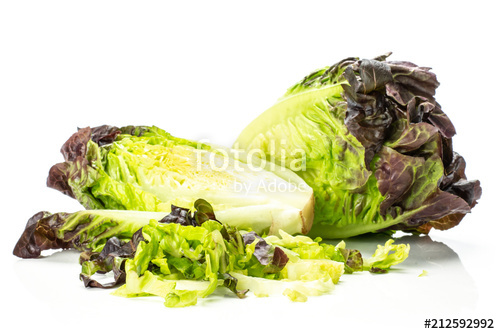chopped lettuce: (25, 47, 485, 298)
